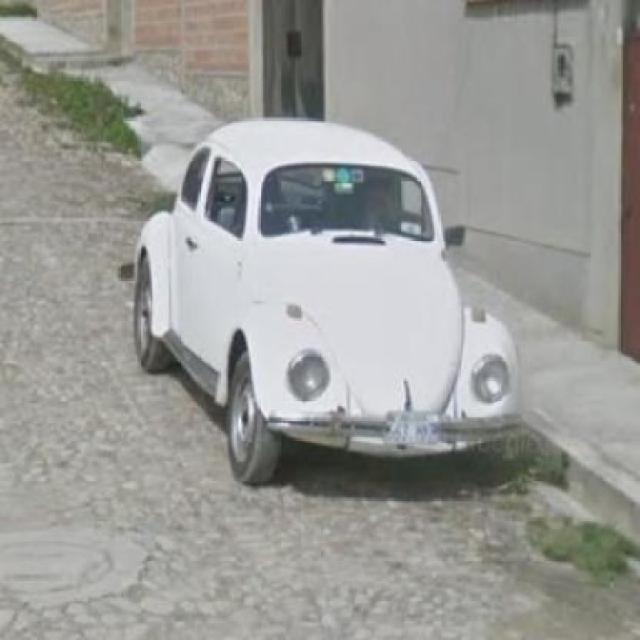car: (136, 106, 522, 483)
